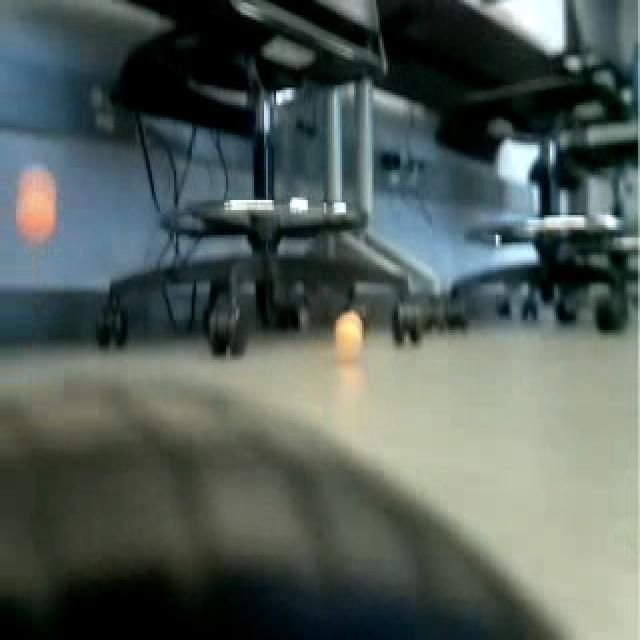oball: (13, 178, 61, 243), (330, 307, 364, 359)
